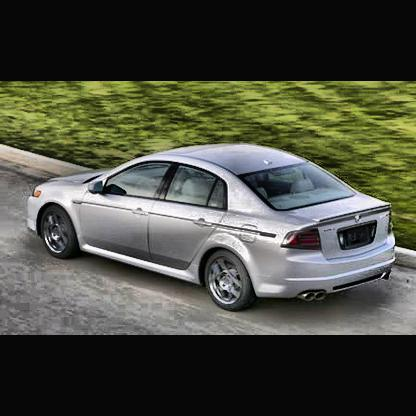Acura TL Type-S 2008: (26, 143, 399, 314)
